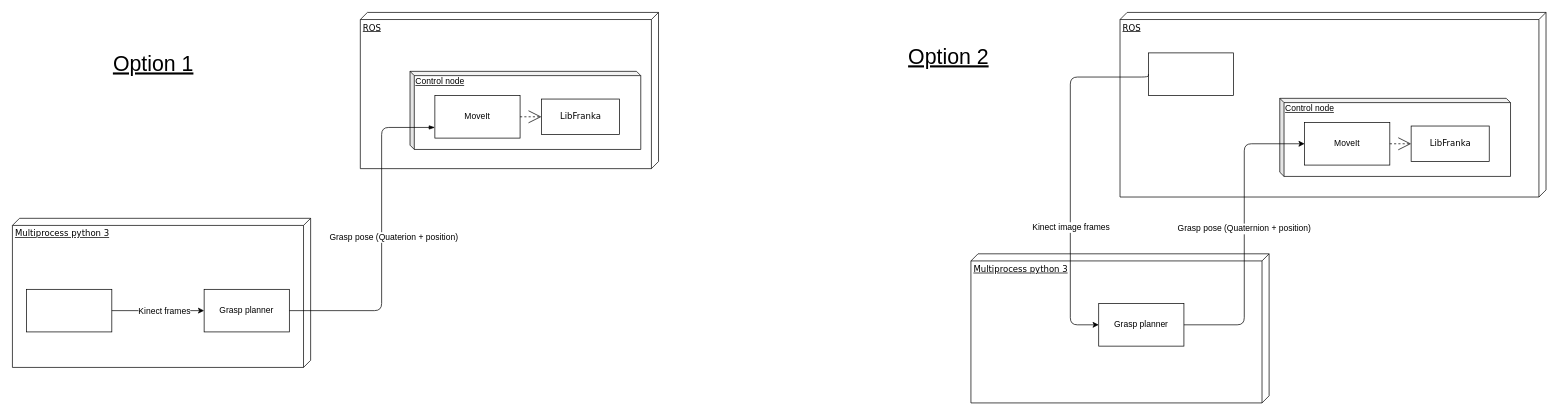
This 1558x415 diagram has some shape labels left out. The shapes that lost their labels are listed below. From the top down, each one's box as (x1, y1, x2, y2) in pixels, then its label:
(1148, 52, 1234, 95): kinect processing (C++)
(26, 289, 112, 332): Kinect frame processing
